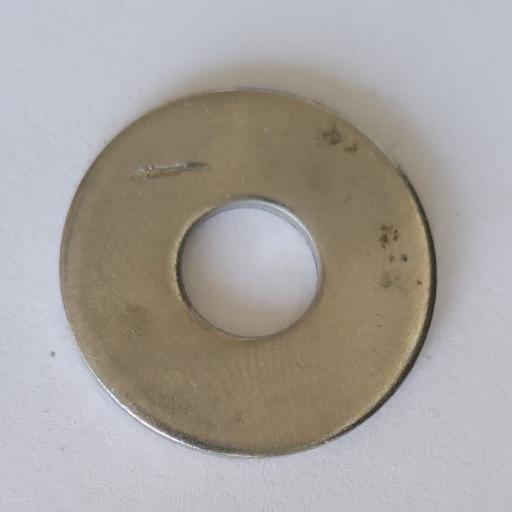scratch: (128, 161, 207, 179)
